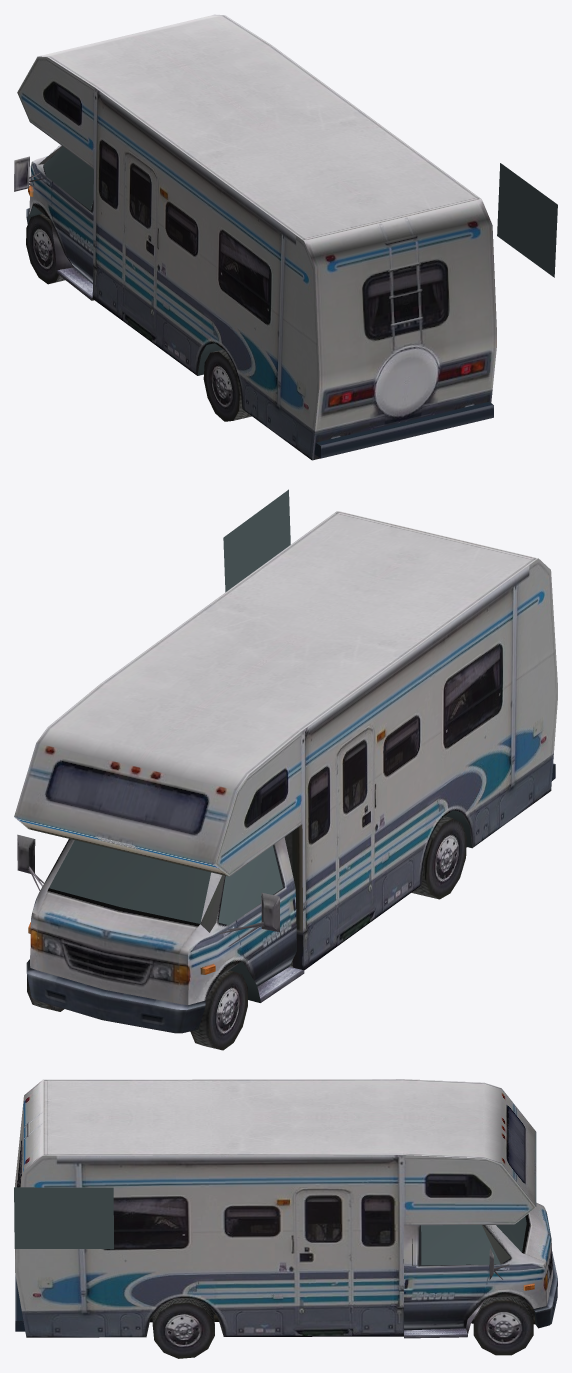
Rendered from p54_36_rv_class_c_white.glb.
3 views of the same model, one above another, from view 1: azimuth 30°, elevation 25°; view 2: azimuth 150°, elevation 25°; view 3: azimuth 270°, elevation 25° (orthographic). The views are drawn at different scales.
Parts seen in each view (by area): view 1: Body, Glass; view 2: Body, Glass; view 3: Body, Glass.
Boxes of the visible parts, box(x1,y1,x2,y2) form: Body: box(14, 14, 496, 460); Glass: box(43, 146, 557, 277); Body: box(14, 511, 557, 1050); Glass: box(49, 489, 290, 925); Body: box(15, 1079, 557, 1358); Glass: box(14, 1187, 526, 1265).
Bounding box in the file's own units: 3.45 × 2.94 × 7.02.
Materials: 2 (2 with a texture image).
